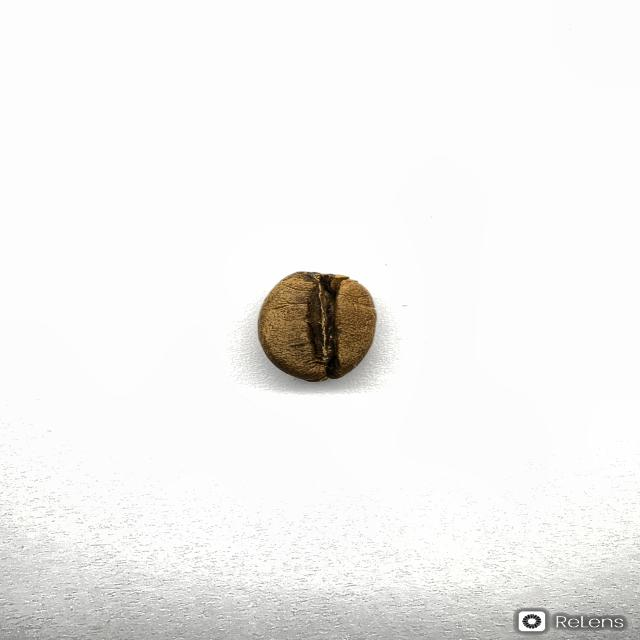Quaker: (256, 270, 377, 382)
